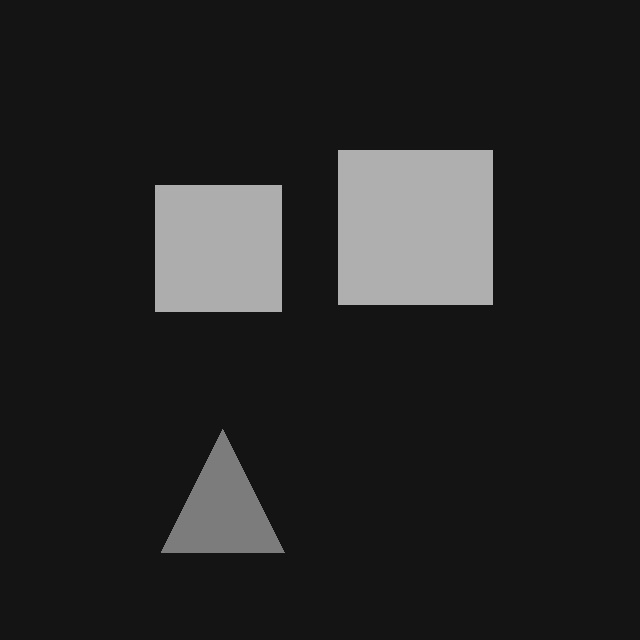square: (338, 150, 492, 304), (155, 185, 281, 311)
triangle: (161, 429, 284, 552)
